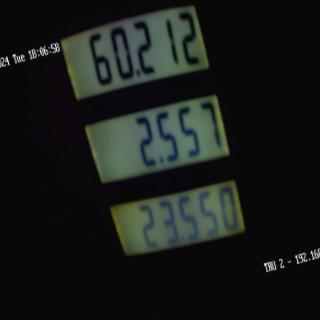screen: (53, 0, 261, 275)
